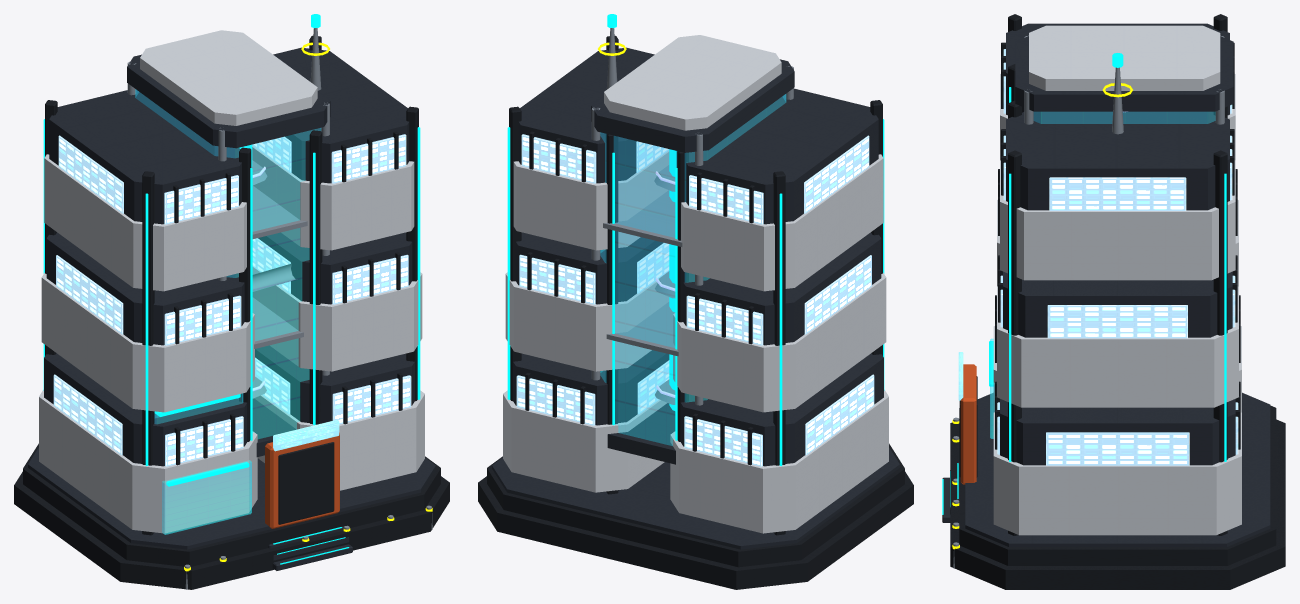
Rendered from bldg_09_r1_03.glb.
3 renders of one model, left to right at view 1: azimuth 30°, elevation 25°; view 2: azimuth 150°, elevation 25°; view 3: azimuth 270°, elevation 25°, orthographic. The views are drawn at different scales.
Visible parts, largest first — view 1: Bldg09_C03_aero_white, Bldg09_C03_carbon_slate, Bldg09_C03_gunmetal, Bldg09_C03_window_lit, Bldg09_C03_glass_cyan, Bldg09_C03_led_cyan, Bldg09_C03_steel_machined, Bldg09_C03_accent_orange, Bldg09_C03_marquee; view 2: Bldg09_C03_aero_white, Bldg09_C03_carbon_slate, Bldg09_C03_gunmetal, Bldg09_C03_window_lit, Bldg09_C03_glass_cyan, Bldg09_C03_steel_machined, Bldg09_C03_led_cyan; view 3: Bldg09_C03_aero_white, Bldg09_C03_carbon_slate, Bldg09_C03_gunmetal, Bldg09_C03_window_lit, Bldg09_C03_glass_cyan, Bldg09_C03_led_cyan, Bldg09_C03_accent_orange, Bldg09_C03_steel_machined.
Boxes of the visible parts, left/top/right/bottom form: Bldg09_C03_aero_white: left=39, top=30, right=424, bottom=533; Bldg09_C03_carbon_slate: left=28, top=47, right=435, bottom=570; Bldg09_C03_gunmetal: left=14, top=35, right=449, bottom=589; Bldg09_C03_window_lit: left=53, top=134, right=411, bottom=466; Bldg09_C03_glass_cyan: left=135, top=89, right=321, bottom=534; Bldg09_C03_led_cyan: left=43, top=14, right=420, bottom=564; Bldg09_C03_steel_machined: left=127, top=28, right=432, bottom=589; Bldg09_C03_accent_orange: left=265, top=432, right=339, bottom=528; Bldg09_C03_marquee: left=273, top=420, right=339, bottom=451; Bldg09_C03_aero_white: left=503, top=35, right=888, bottom=533; Bldg09_C03_carbon_slate: left=492, top=47, right=899, bottom=549; Bldg09_C03_gunmetal: left=478, top=35, right=913, bottom=589; Bldg09_C03_window_lit: left=516, top=134, right=874, bottom=466; Bldg09_C03_glass_cyan: left=600, top=94, right=786, bottom=445; Bldg09_C03_steel_machined: left=591, top=28, right=793, bottom=405; Bldg09_C03_led_cyan: left=507, top=14, right=884, bottom=466; Bldg09_C03_aero_white: left=993, top=25, right=1241, bottom=535; Bldg09_C03_carbon_slate: left=942, top=23, right=1270, bottom=546; Bldg09_C03_gunmetal: left=950, top=14, right=1285, bottom=589; Bldg09_C03_window_lit: left=997, top=49, right=1238, bottom=465; Bldg09_C03_glass_cyan: left=990, top=112, right=1215, bottom=438; Bldg09_C03_led_cyan: left=942, top=53, right=1226, bottom=514; Bldg09_C03_accent_orange: left=960, top=364, right=976, bottom=484; Bldg09_C03_steel_machined: left=953, top=35, right=1224, bottom=568.
Size of the model in its own units: 12 by 16.22 by 10.23.
11 materials, 11 textured.
